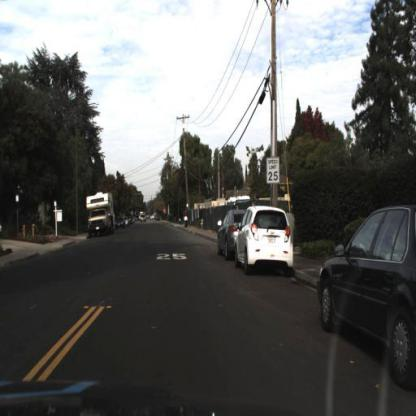car: (318, 207, 416, 392), (231, 199, 299, 285), (236, 204, 302, 281), (215, 208, 249, 264), (214, 201, 238, 268)
pedestrian: (185, 209, 190, 230)
truck: (86, 191, 114, 242)
